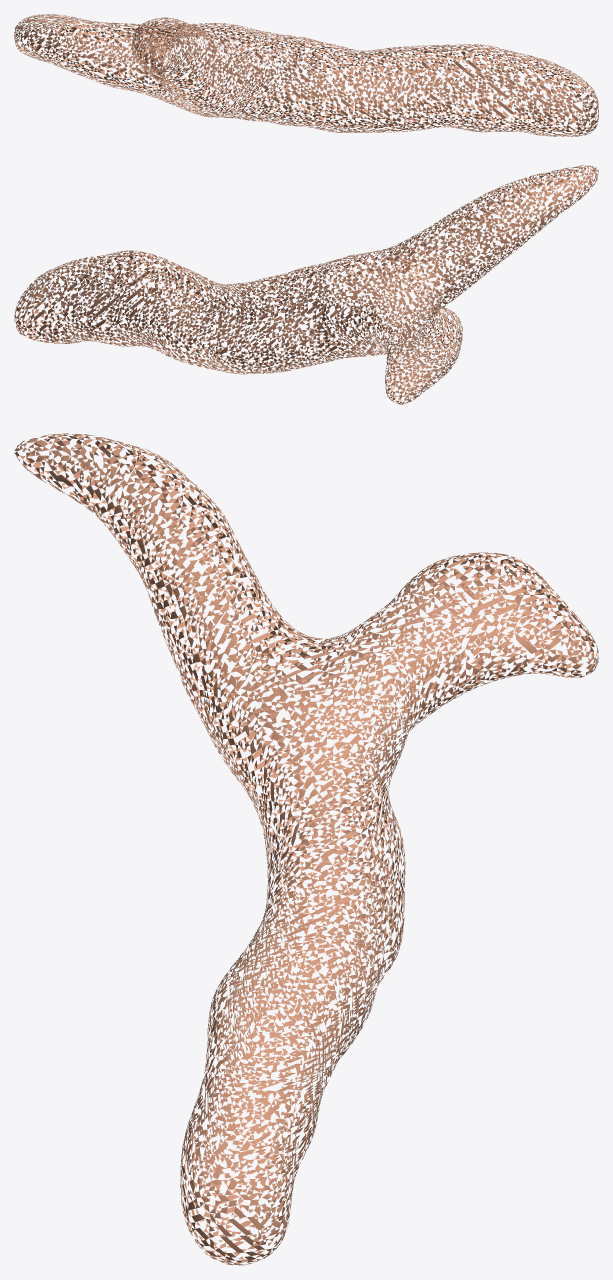
File: morph_004.glb
The picture shows the model from 3 angles, top to bottom: view 1: azimuth 30°, elevation 25°; view 2: azimuth 150°, elevation 25°; view 3: azimuth 270°, elevation 25°; orthographic projection. The views are drawn at different scales.
Bounding box in the file's own units: 105 × 48.84 × 60.85.
